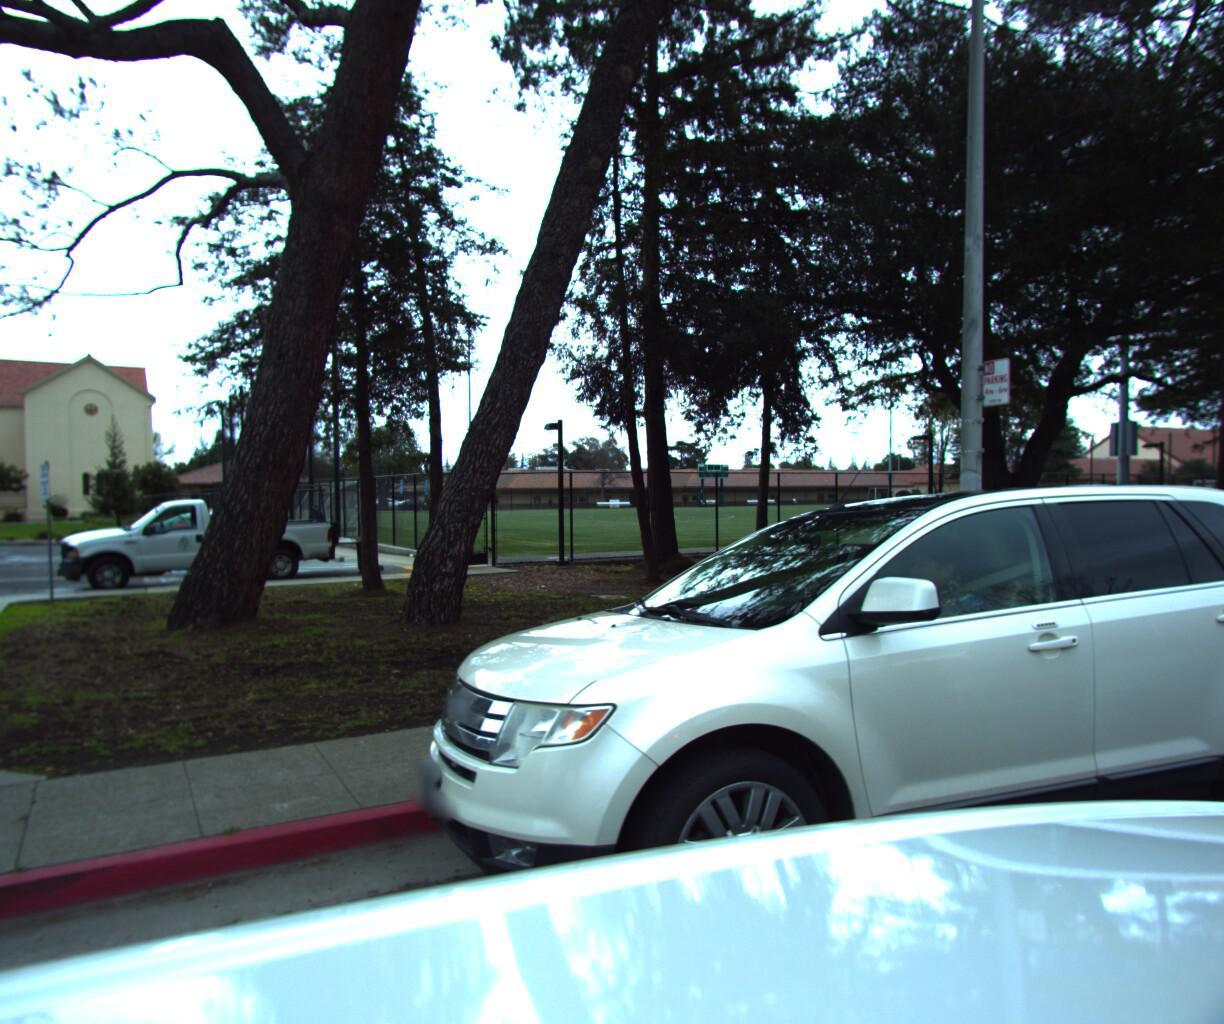car: (374, 479, 1224, 1024)
